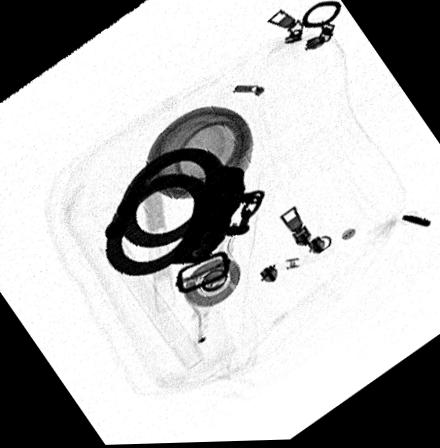HandCuffs: (103, 144, 267, 295)
